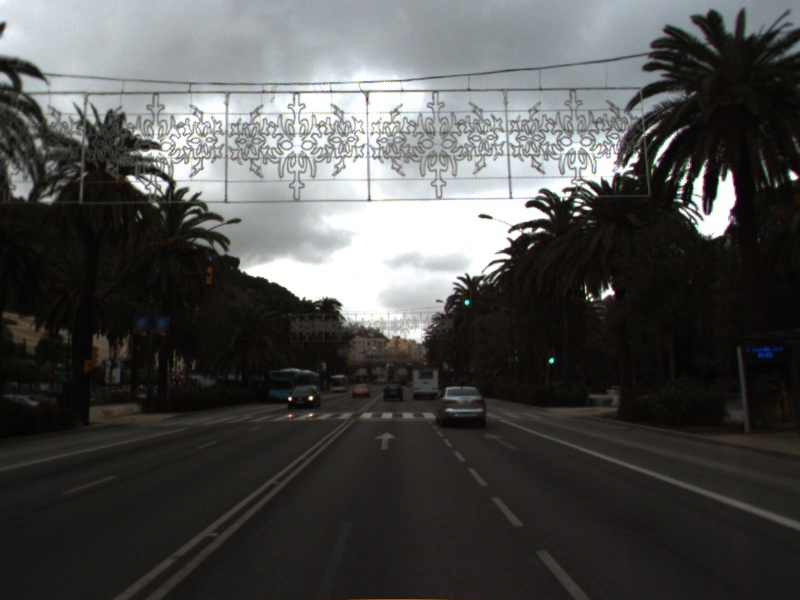STRAIGHT: (481, 430, 520, 451), (372, 430, 400, 451)
